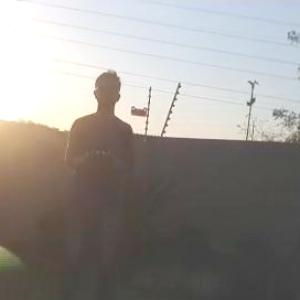follow: (57, 62, 138, 299)
